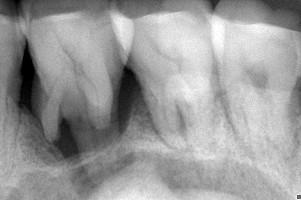Dental Caries: (30, 113, 79, 163), (117, 67, 140, 138)
